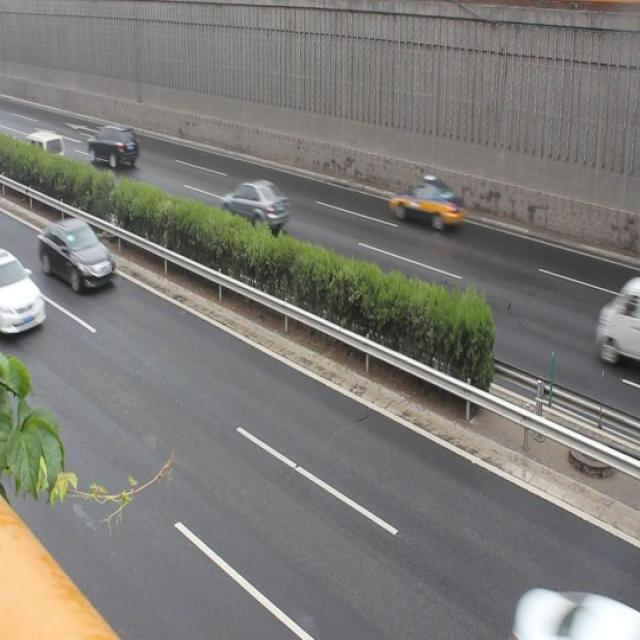car: (514, 584, 640, 639), (39, 217, 114, 291), (389, 181, 463, 233), (1, 253, 46, 338), (222, 177, 289, 231), (89, 122, 139, 170)
